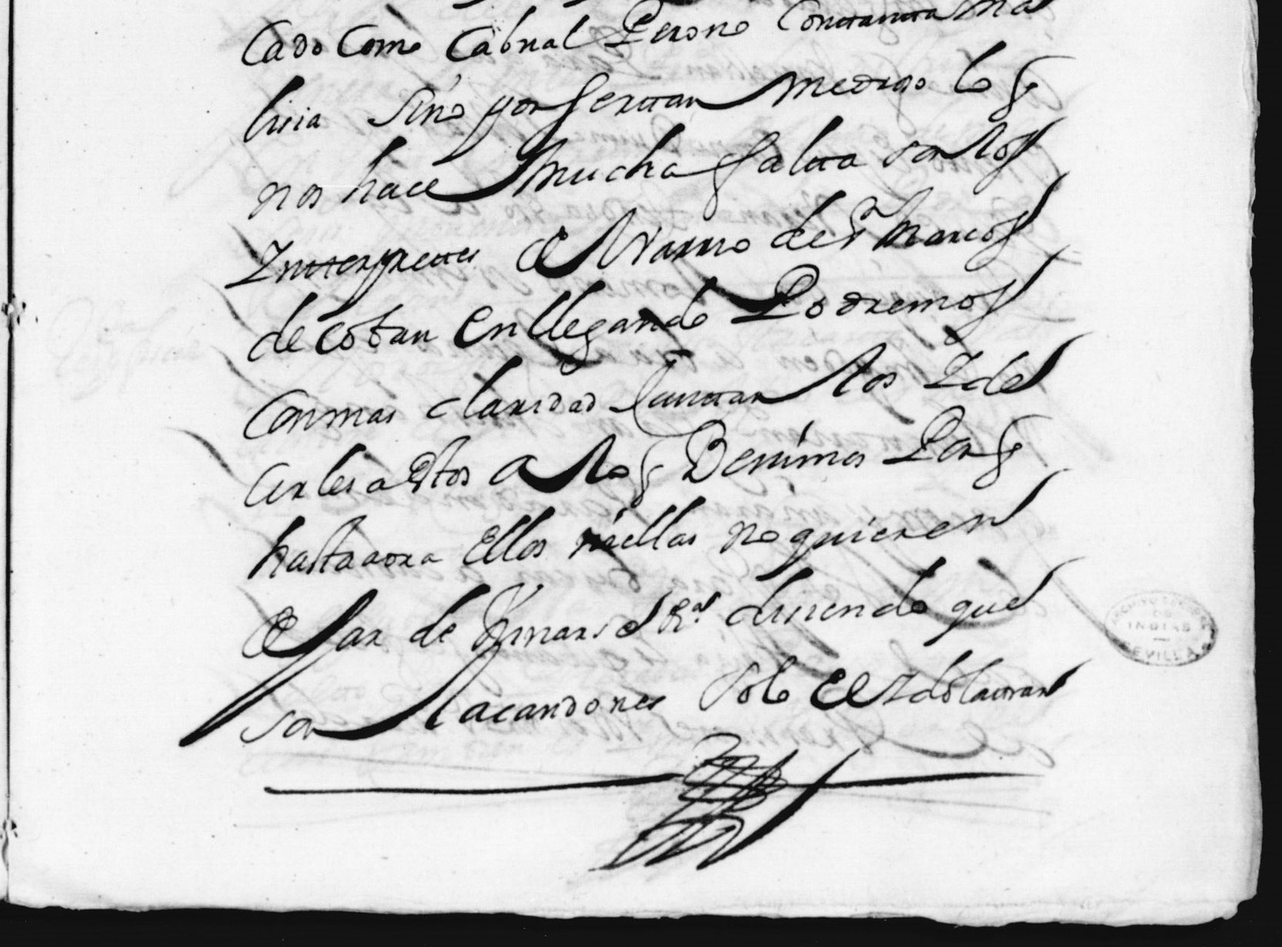lacandon: (311, 642, 666, 740)
